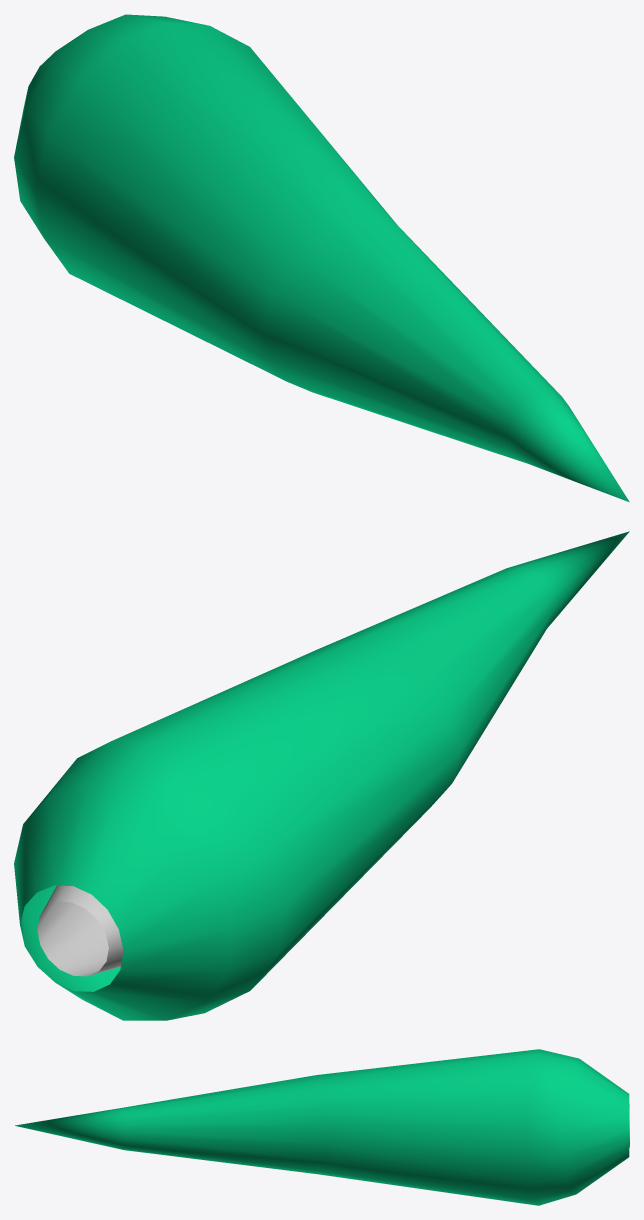
Rendered from blueflame.fbx.
The picture shows the model from 3 angles, top to bottom: view 1: azimuth 30°, elevation 25°; view 2: azimuth 150°, elevation 25°; view 3: azimuth 270°, elevation 25°; orthographic projection. The views are drawn at different scales.
Parts seen in each view (by area): view 1: Flame; view 2: Flame; view 3: Flame.
Boxes of the visible parts, x1,y1,x2,y2 form: Flame: (14, 14, 629, 502); Flame: (14, 531, 629, 1020); Flame: (15, 1049, 629, 1205).
Size of the model in its own units: 14.1 by 54.57 by 14.3.
